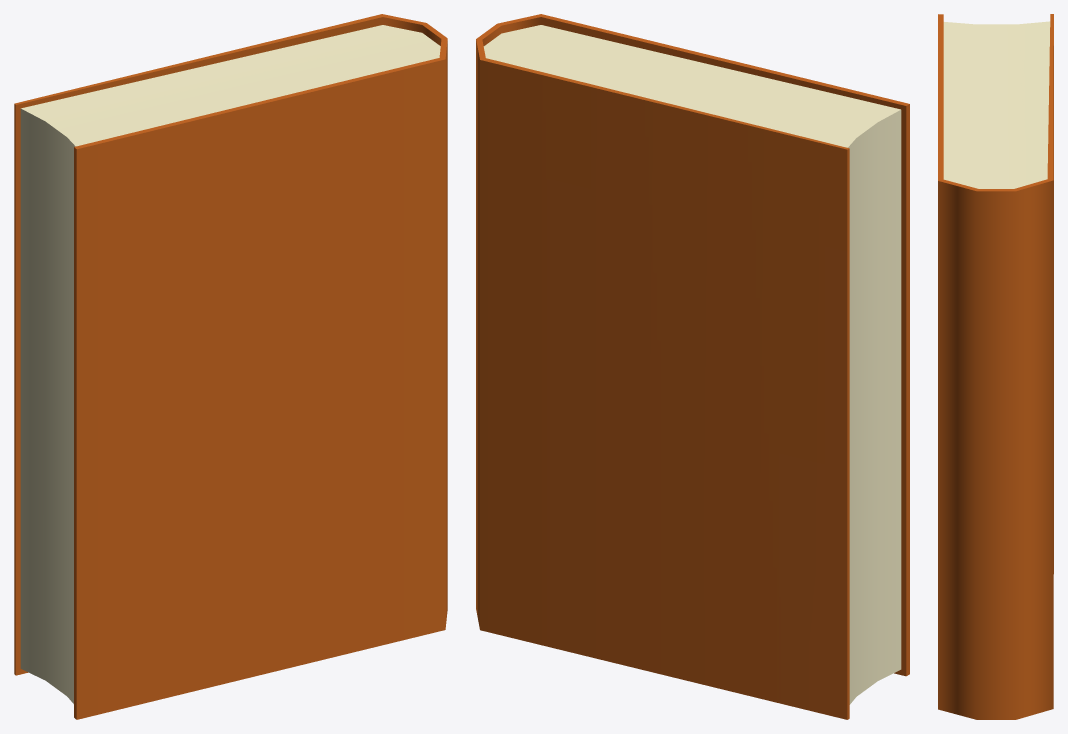
Rendered from Book_02.fbx.
3 views of the same model, side by side, from view 1: azimuth 30°, elevation 25°; view 2: azimuth 150°, elevation 25°; view 3: azimuth 270°, elevation 25° (orthographic). The views are drawn at different scales.
Parts seen in each view (by area): view 1: Book02_LOD00; view 2: Book02_LOD00; view 3: Book02_LOD00.
Part boxes in pixels (<box>): Book02_LOD00: <box>14,14,447,719</box>; Book02_LOD00: <box>476,14,909,719</box>; Book02_LOD00: <box>938,14,1053,719</box>.
Size of what is drawn, in the model's own units: 17.93 by 24.92 by 4.94.
